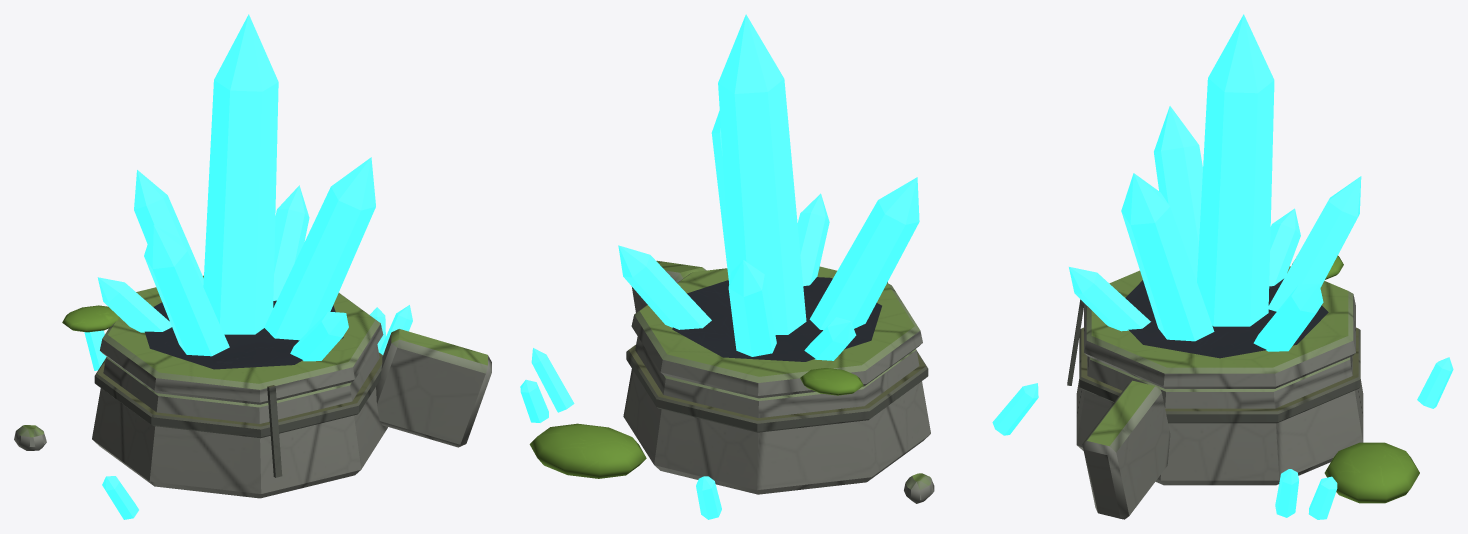
The model's file is crystal_probe_cluster.glb.
3 renders of one model, left to right at view 1: azimuth 30°, elevation 25°; view 2: azimuth 150°, elevation 25°; view 3: azimuth 270°, elevation 25°, orthographic. The views are drawn at different scales.
Parts seen in each view (by area): view 1: crystal_probe_cluster; view 2: crystal_probe_cluster; view 3: crystal_probe_cluster.
Part boxes in pixels (<box>): crystal_probe_cluster: <box>14,14,491,519</box>; crystal_probe_cluster: <box>520,14,1038,519</box>; crystal_probe_cluster: <box>1067,14,1453,519</box>.
Size of the model in its own units: 2.18 by 2.18 by 1.77.
Materials: 5 (4 with a texture image).
